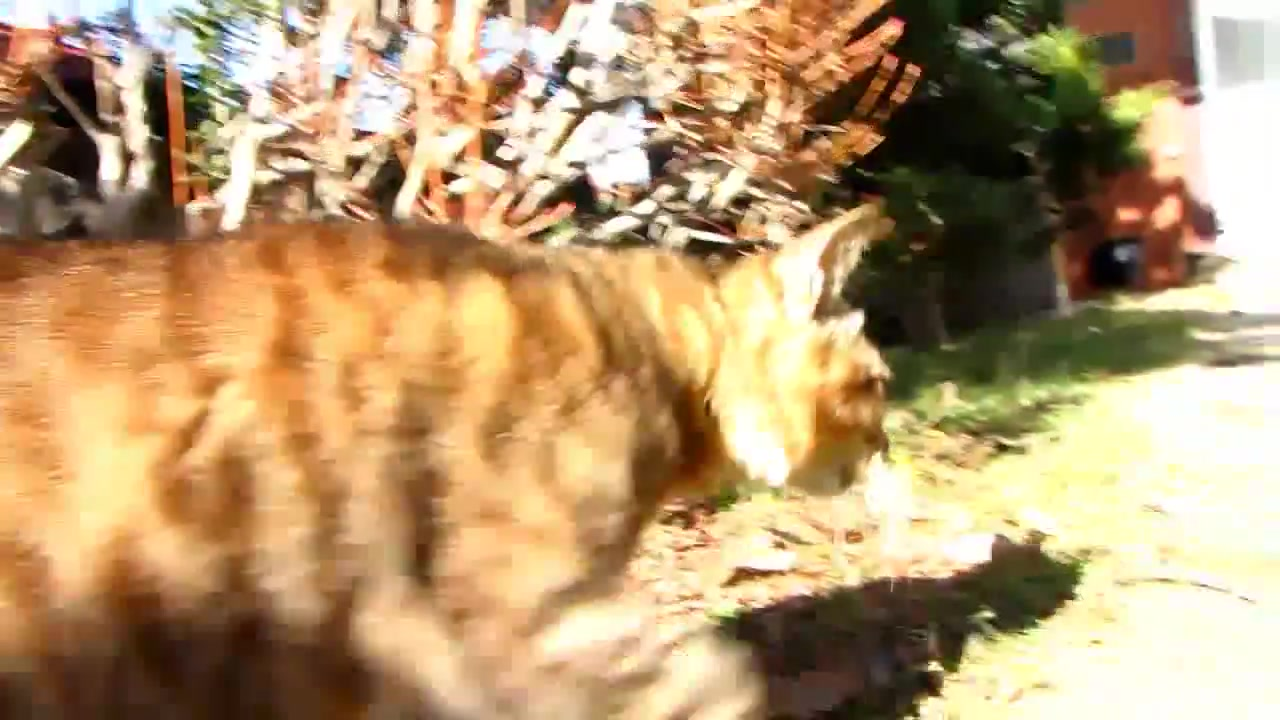cat: (2, 200, 898, 720)
